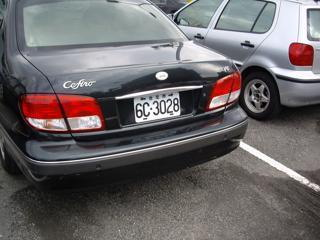plate: (129, 91, 181, 122)
